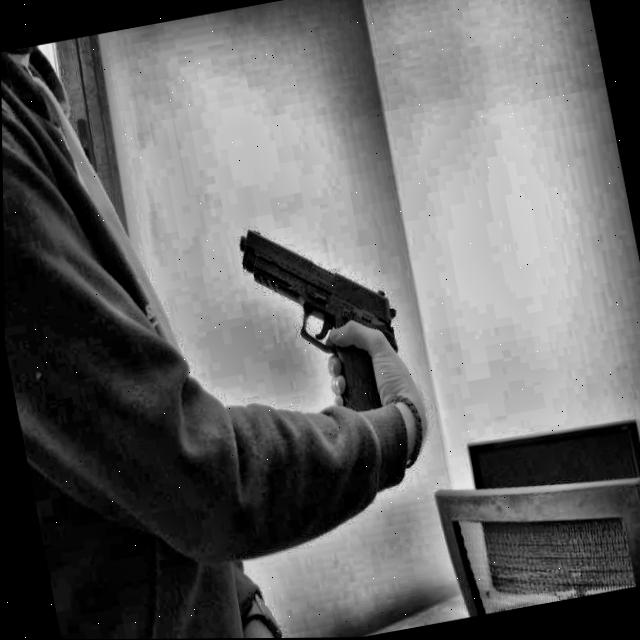pistol: (215, 186, 446, 470)
